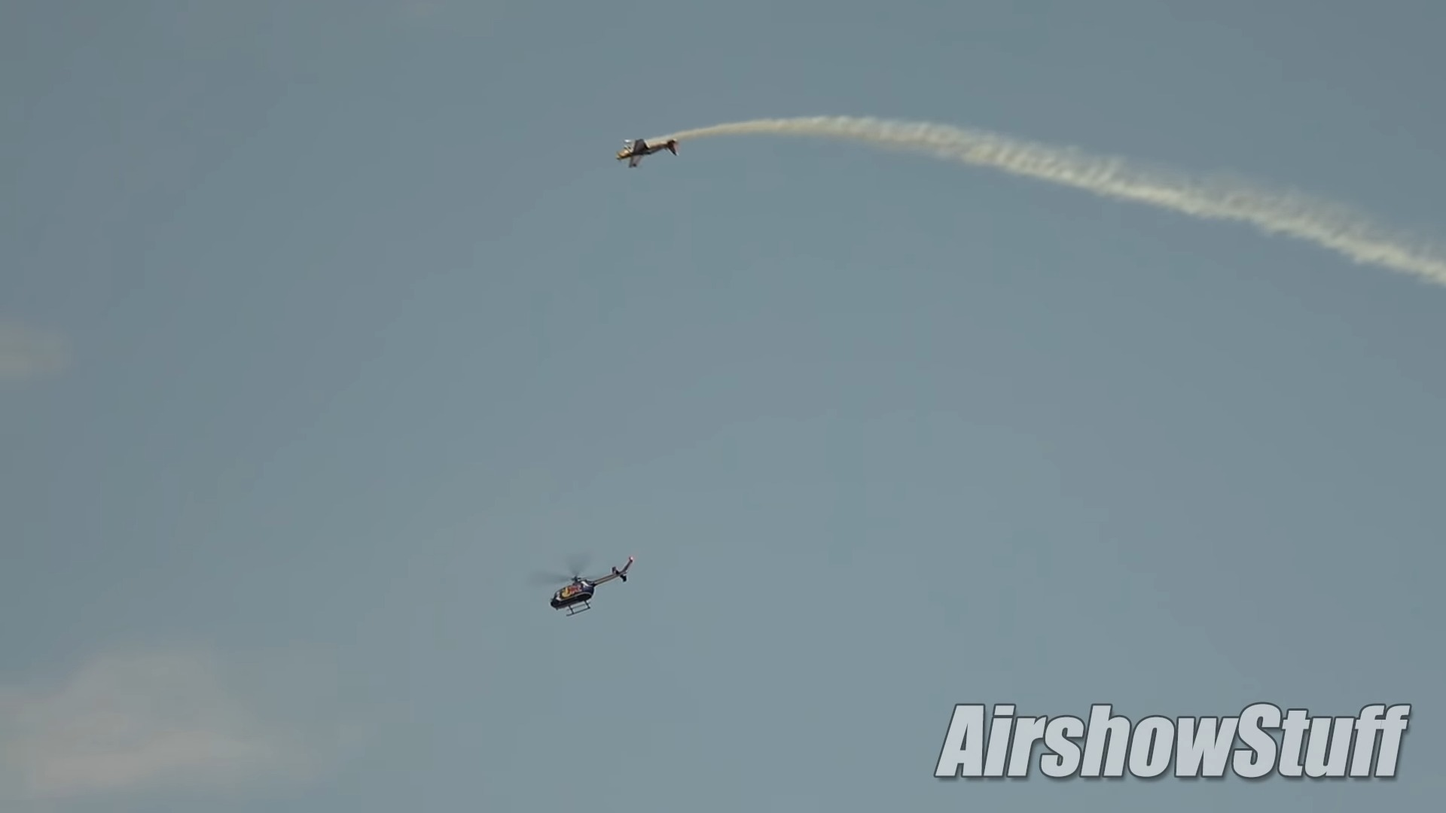not_drone: (546, 554, 640, 618), (605, 126, 683, 168)
